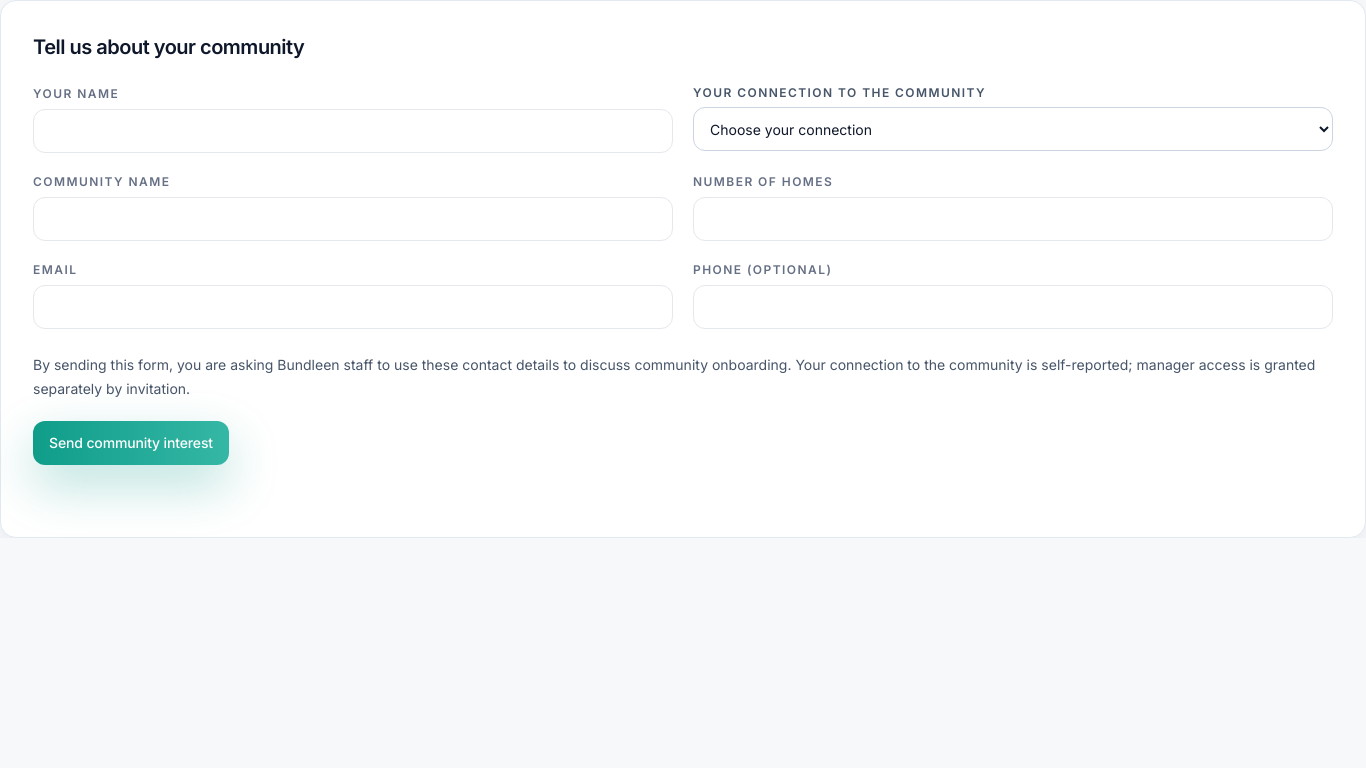
Test: public community interest form › does not falsely confirm a malformed receipt: {}
Step 1. Type " Jane Smith " into the field labelled "Your name" → (353, 131), box [46,110,660,152]
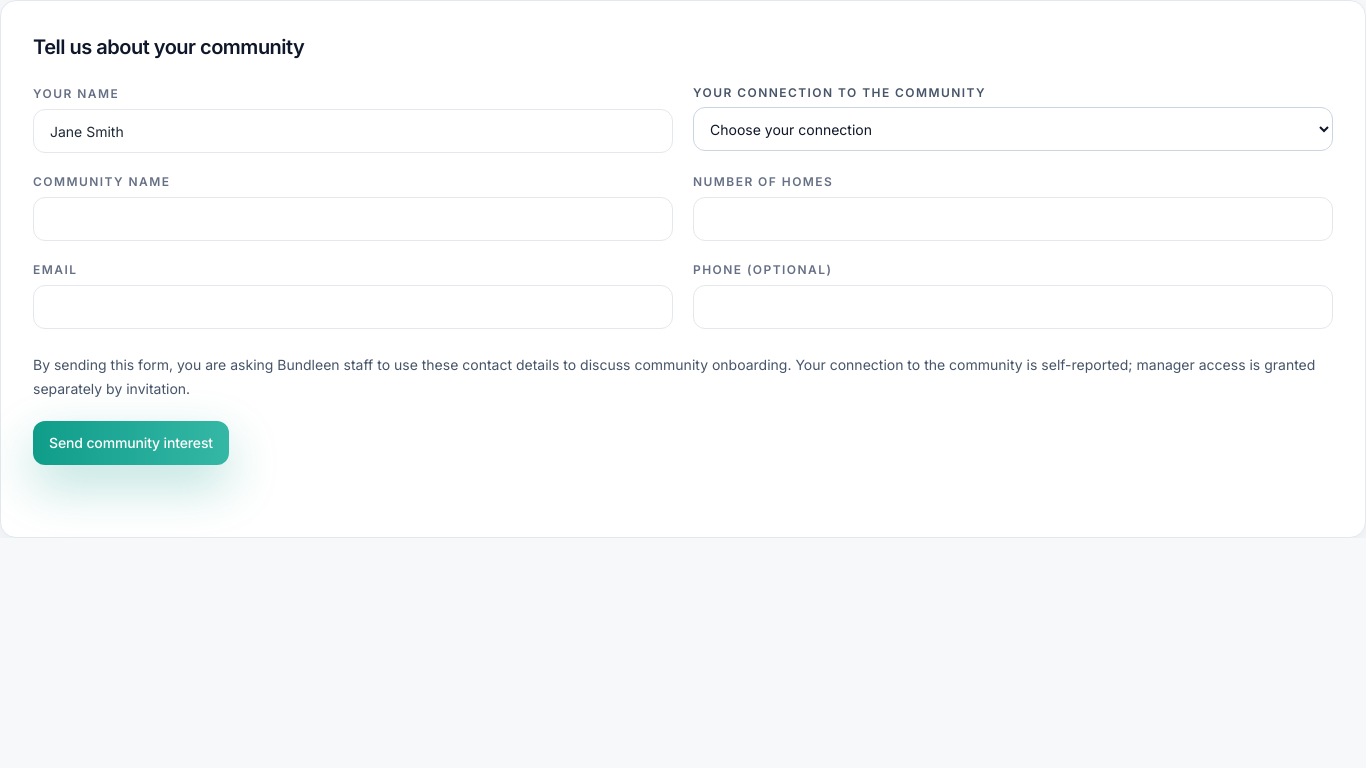
Step 2. Type "Oakwood HOA" into the field labelled "Community name" → (353, 219), box [46,198,660,240]
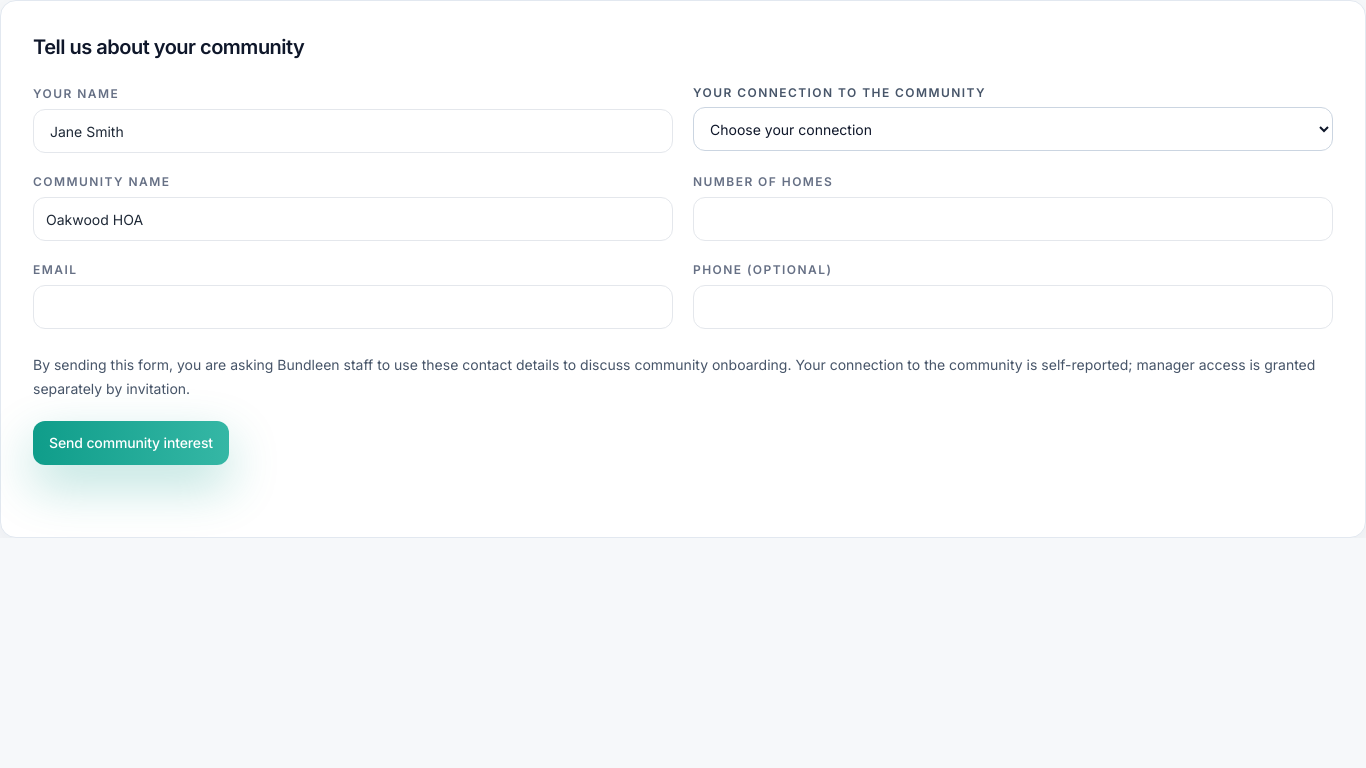
Step 3. Type "75" into the field labelled "Number of homes" → (1013, 219), box [706,198,1320,240]
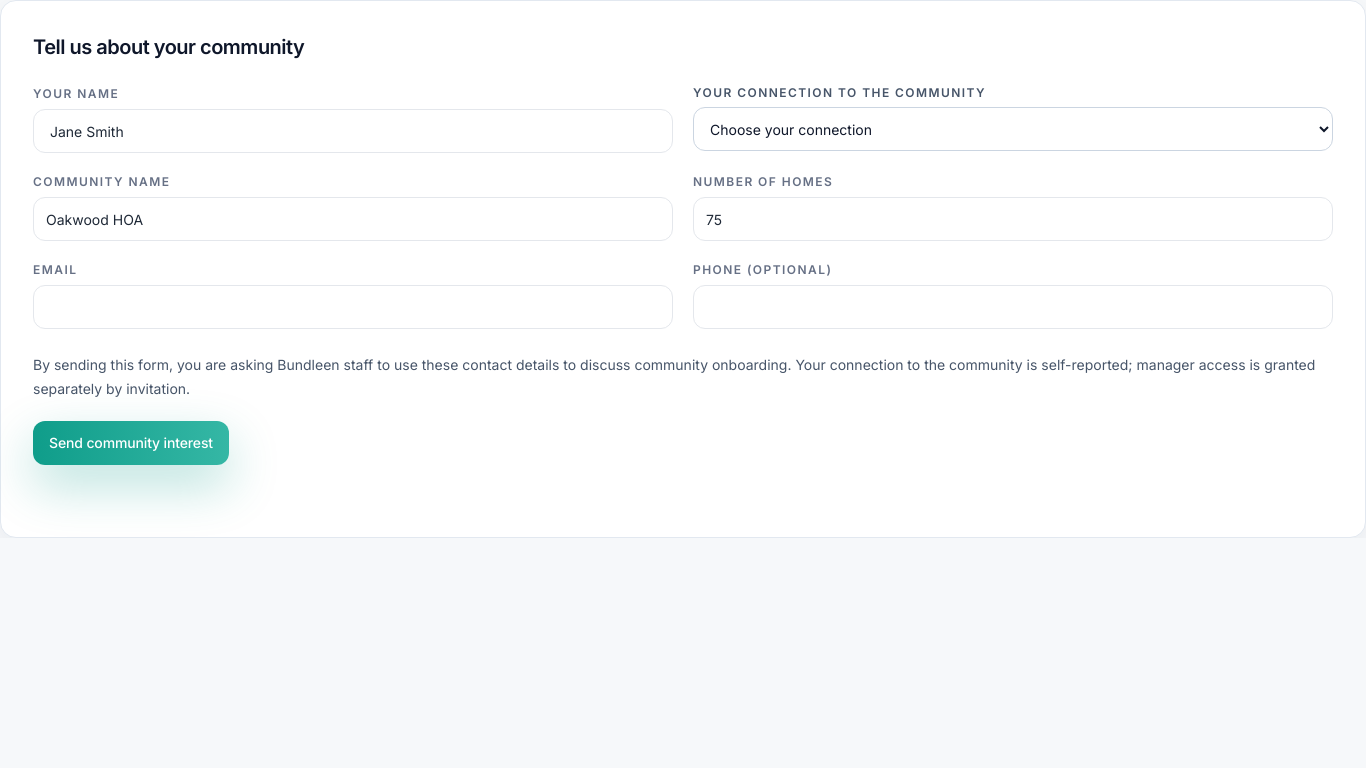
Step 4. Type " JANE@EXAMPLE.INVALID " into the field labelled "Email" → (353, 307), box [46,286,660,328]
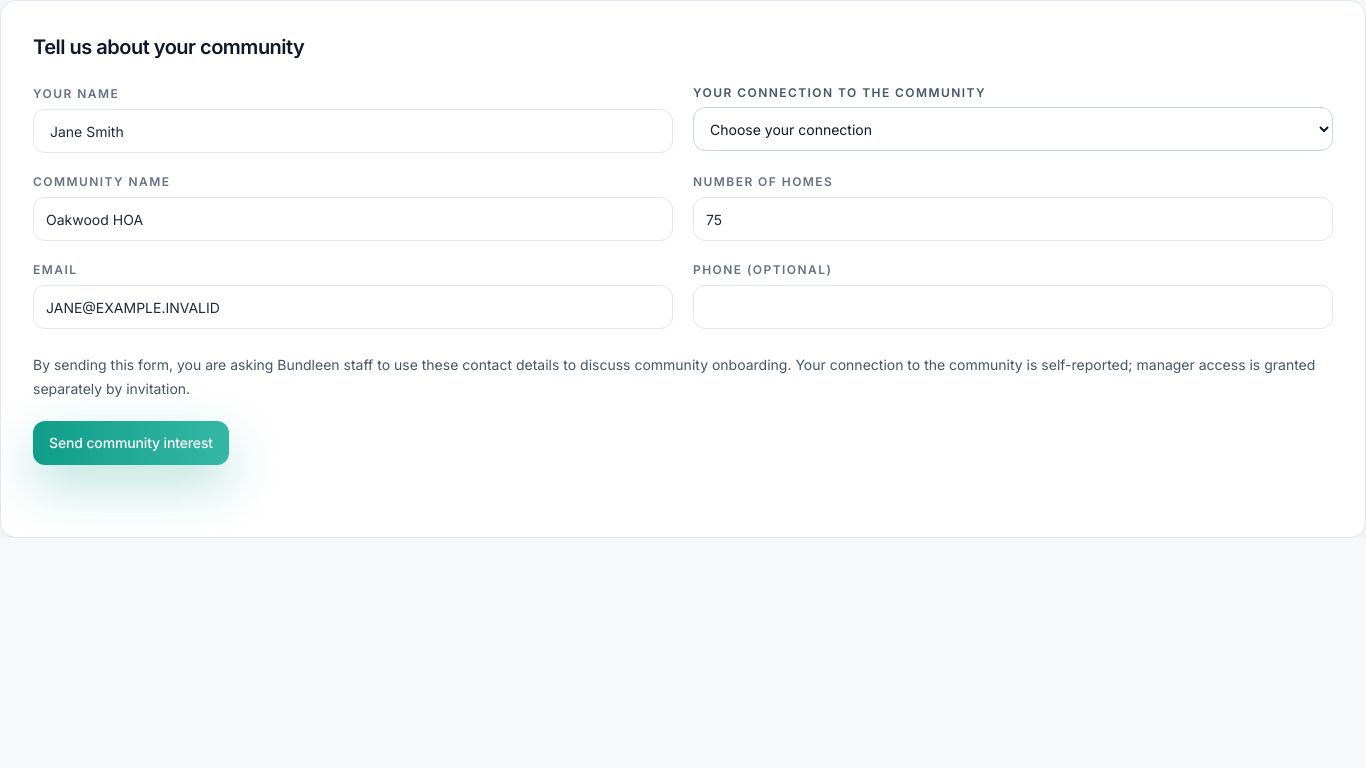
Step 5. Select "Community manager" in the dropdown labelled "Your connection to the community" → (1013, 129), box [693,107,1333,151]
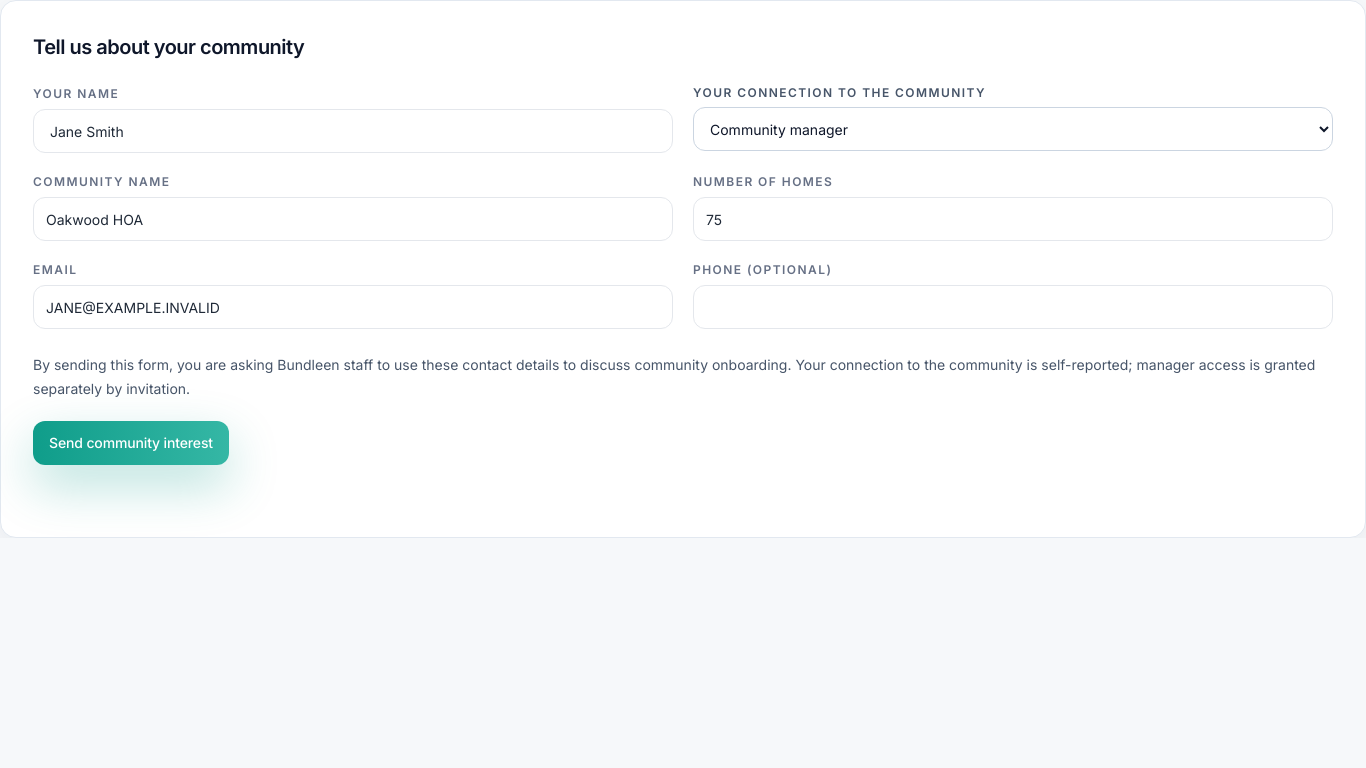
Step 6. Click the button "Send community interest" → (131, 443), box [33,421,229,465]
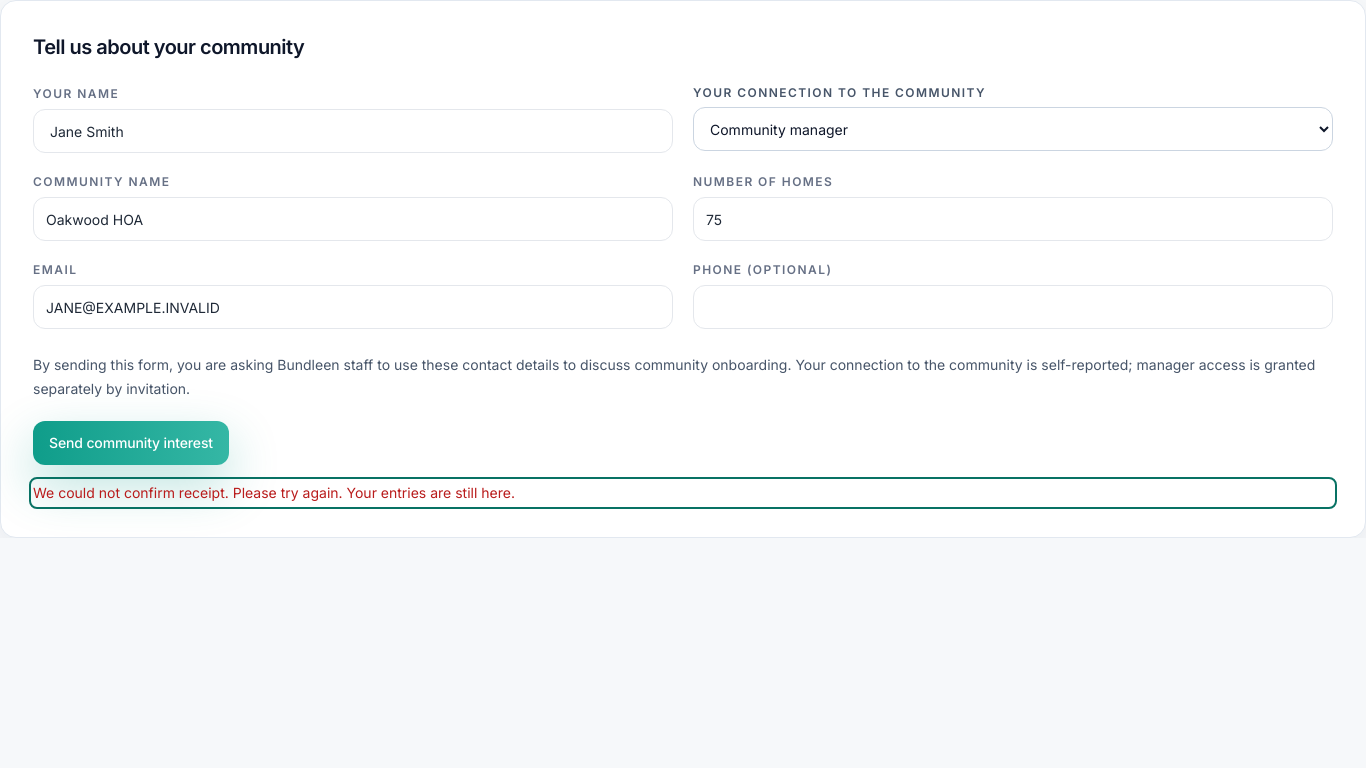
Expected: the message "We could not confirm receipt. Please try again. Your entries are still here." is shown, [33,484,515,501]
